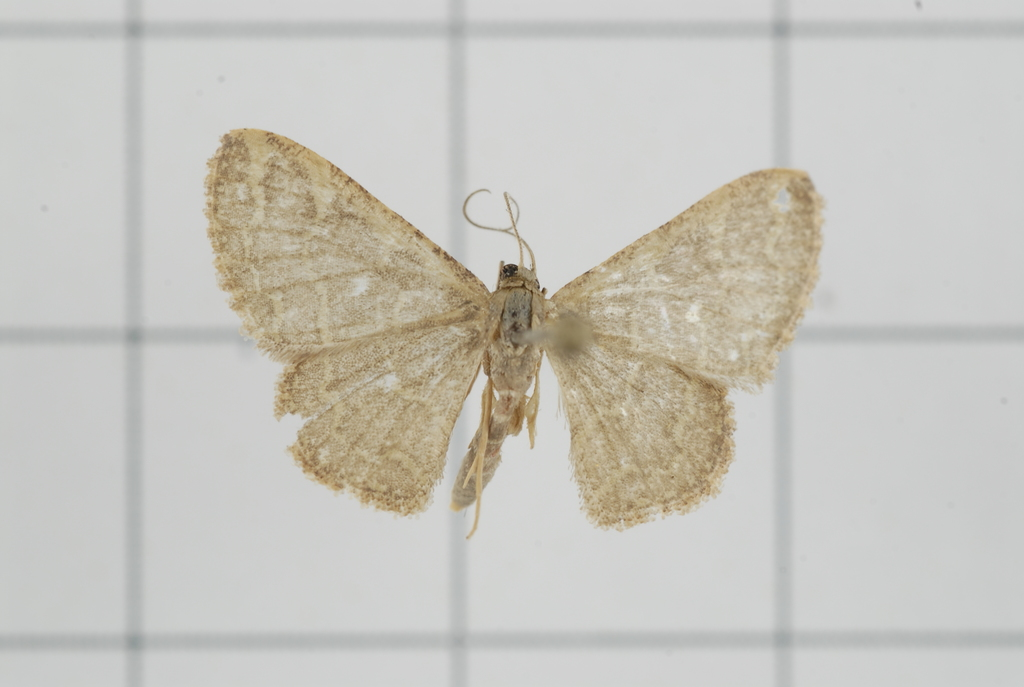Butterfly: (189, 108, 850, 542)
